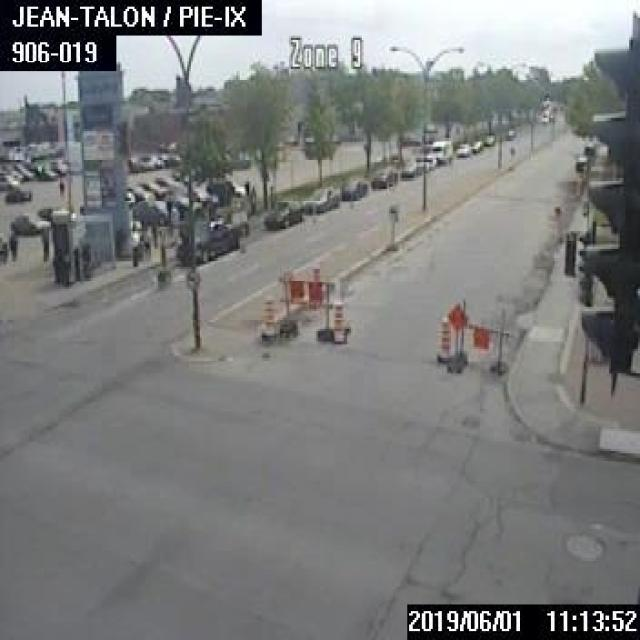construction: (444, 298, 509, 374), (276, 266, 332, 340), (434, 313, 451, 361), (260, 294, 275, 336), (331, 298, 345, 342)
pedestrian: (128, 222, 138, 264), (38, 224, 49, 260), (141, 224, 151, 262), (50, 247, 60, 281), (7, 229, 17, 258), (80, 242, 88, 275), (70, 245, 78, 277), (61, 249, 68, 285), (57, 177, 63, 196)
vehicle: (175, 222, 238, 263), (132, 198, 178, 224), (262, 198, 300, 226), (300, 185, 339, 211), (166, 192, 199, 216), (10, 212, 49, 231), (36, 205, 75, 223), (426, 138, 452, 162), (370, 167, 397, 188), (339, 177, 366, 197), (190, 188, 217, 206), (126, 183, 154, 200), (2, 184, 30, 201), (140, 179, 166, 197), (153, 174, 179, 187), (400, 160, 420, 174), (573, 155, 589, 171), (0, 173, 16, 186), (455, 142, 471, 155), (582, 141, 595, 154), (415, 159, 427, 172), (0, 233, 5, 264), (423, 154, 435, 166), (503, 128, 515, 138), (471, 138, 481, 150), (539, 108, 548, 121), (483, 134, 493, 144)
